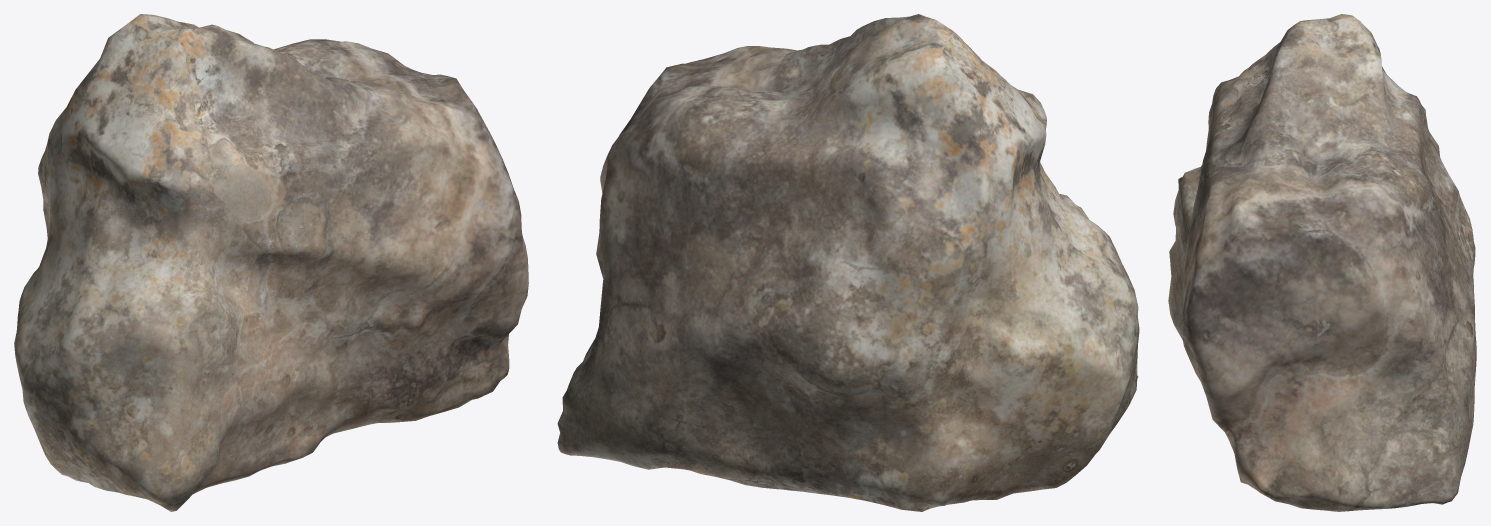
The model's file is Stone 06_02.fbx.
The picture shows the model from 3 angles, left to right: view 1: azimuth 30°, elevation 25°; view 2: azimuth 150°, elevation 25°; view 3: azimuth 270°, elevation 25°; orthographic projection. The views are drawn at different scales.
Parts seen in each view (by area): view 1: Stone_06_02_LOD0; view 2: Stone_06_02_LOD0; view 3: Stone_06_02_LOD0.
Part boxes in pixels (x1,y1,x2,y2): Stone_06_02_LOD0: (14, 14, 528, 511); Stone_06_02_LOD0: (557, 14, 1139, 511); Stone_06_02_LOD0: (1168, 14, 1476, 511).
Bounding box in the file's own units: 648 × 537 × 407.
